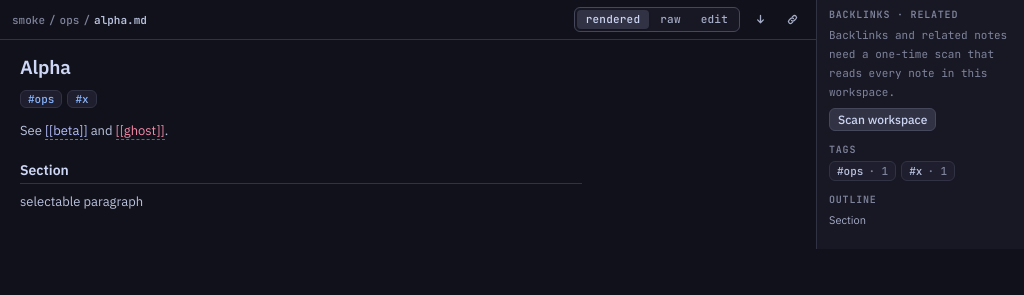
the raw toggle shows the source, tags line and all
The width and height of the screenshot is (1024, 295).
Expected: the heading "Alpha" is shown, [20,55,71,79]
Click the button "raw" at x=671, y=20, box [651,10,690,29]
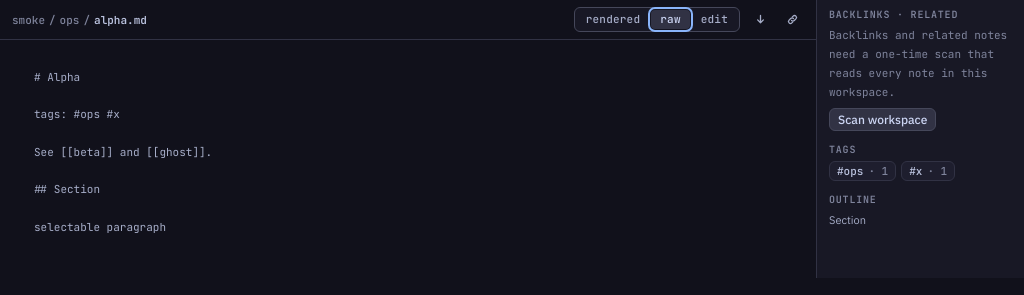
Expected: the text "tags: #ops #x" is shown, [34,70,212,234]
